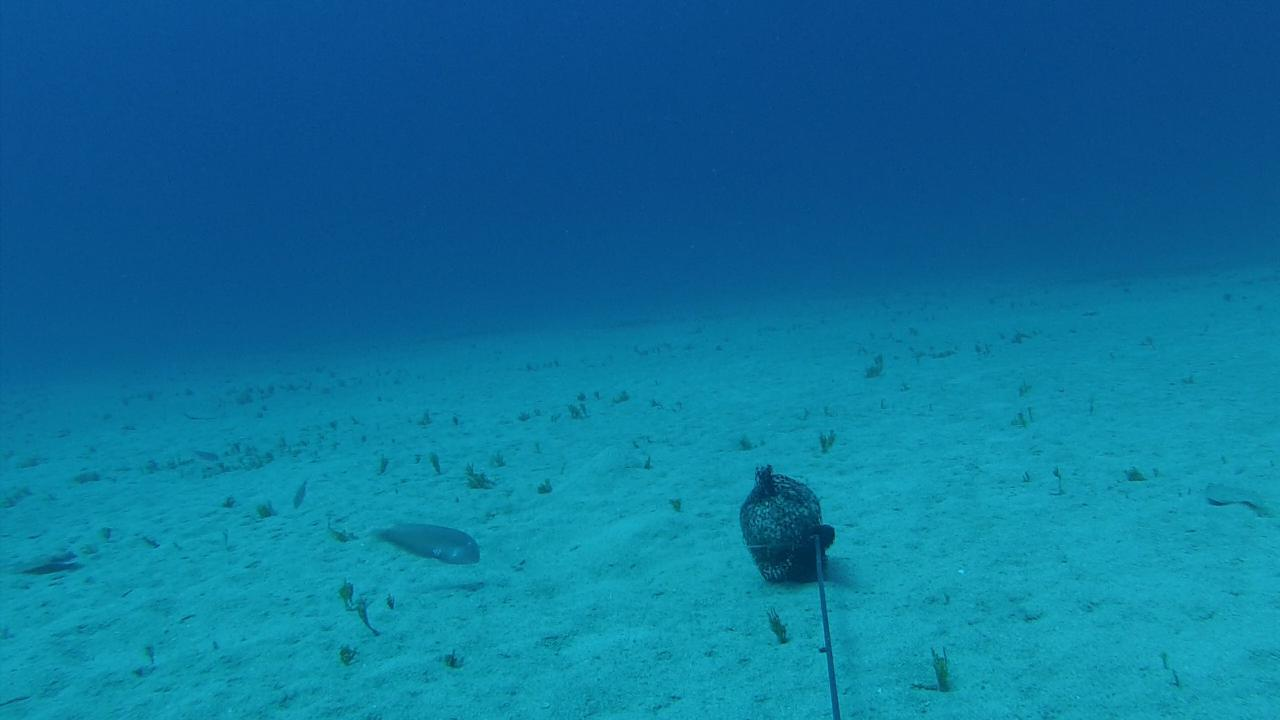bothus: (16, 544, 78, 578), (1208, 482, 1267, 511)
raor: (359, 516, 484, 568)
